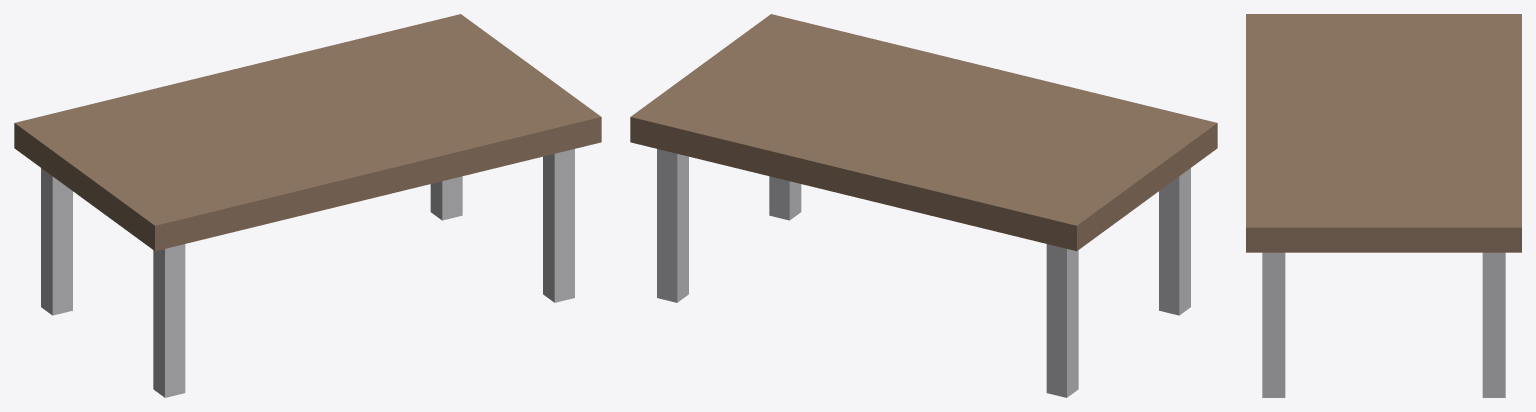
The model's file is coffee_table.glb.
3 views of the same model, side by side, from view 1: azimuth 30°, elevation 25°; view 2: azimuth 150°, elevation 25°; view 3: azimuth 270°, elevation 25° (orthographic).
Bounding box in the file's own units: 1100 × 430 × 600.
